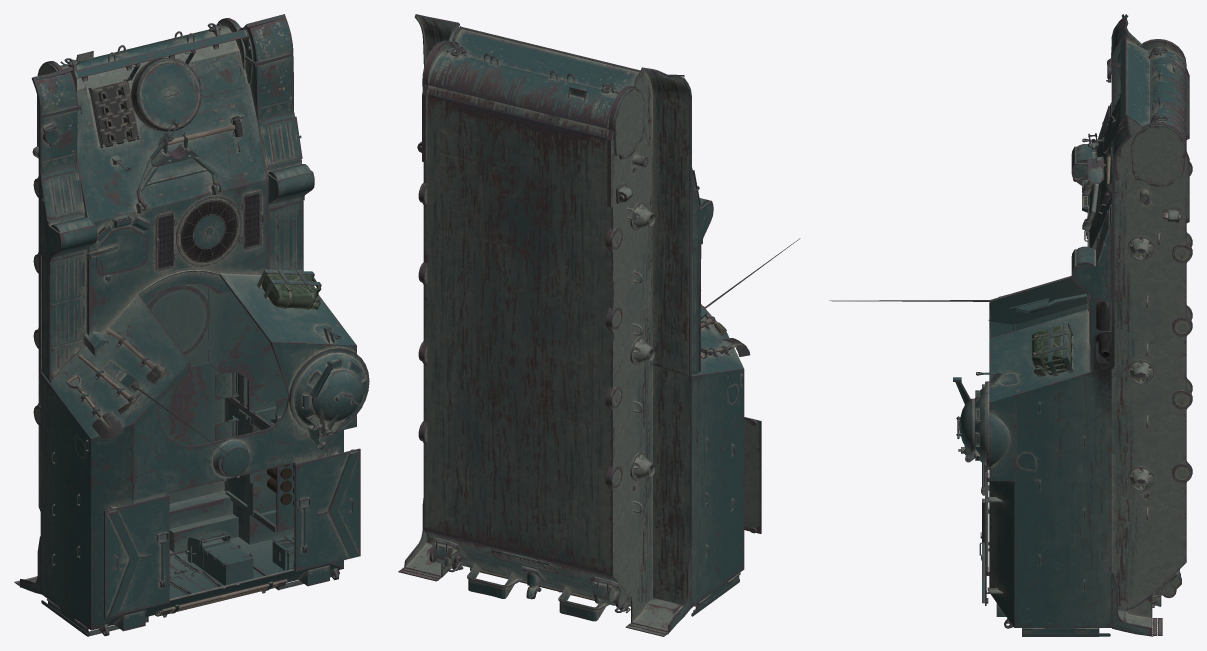
Rendered from Hull.glb.
3 views of the same model, side by side, from view 1: azimuth 30°, elevation 25°; view 2: azimuth 150°, elevation 25°; view 3: azimuth 270°, elevation 25° (orthographic). The views are drawn at different scales.
Parts seen in each view (by area): view 1: set_0_group_0; view 2: set_0_group_0; view 3: set_0_group_0.
Boxes of the visible parts, x1,y1,x2,y2 form: set_0_group_0: (14,14,369,636); set_0_group_0: (398,14,800,636); set_0_group_0: (829,14,1192,636).
Bounding box in the file's own units: 2.65 × 4.96 × 3.23.
Materials: 1 (1 with a texture image).
